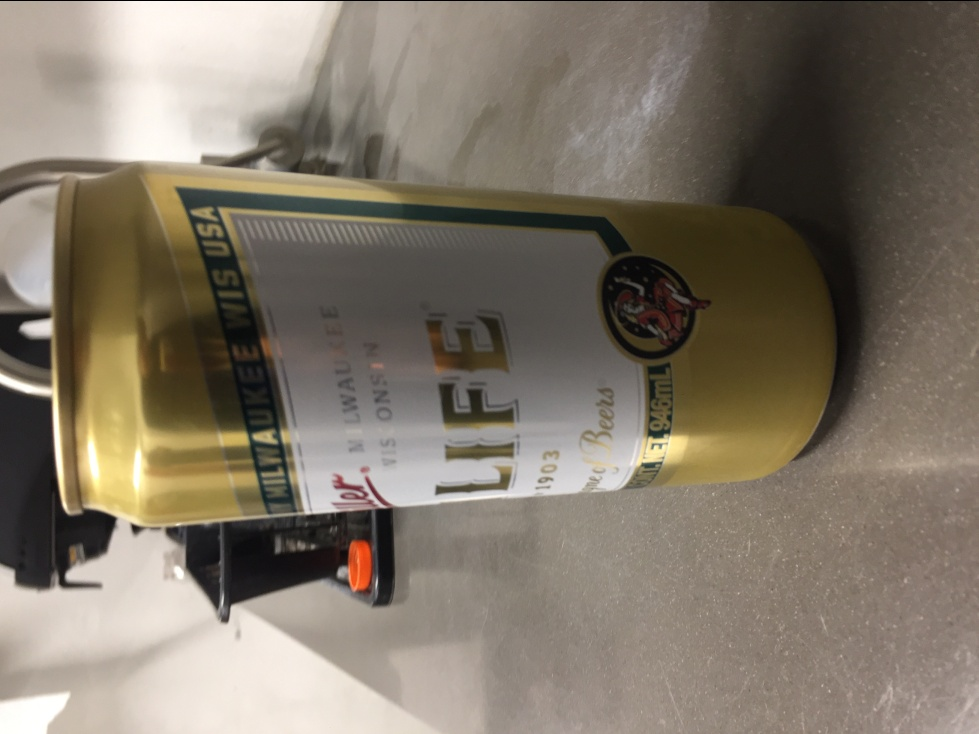miller: (48, 158, 852, 530)
